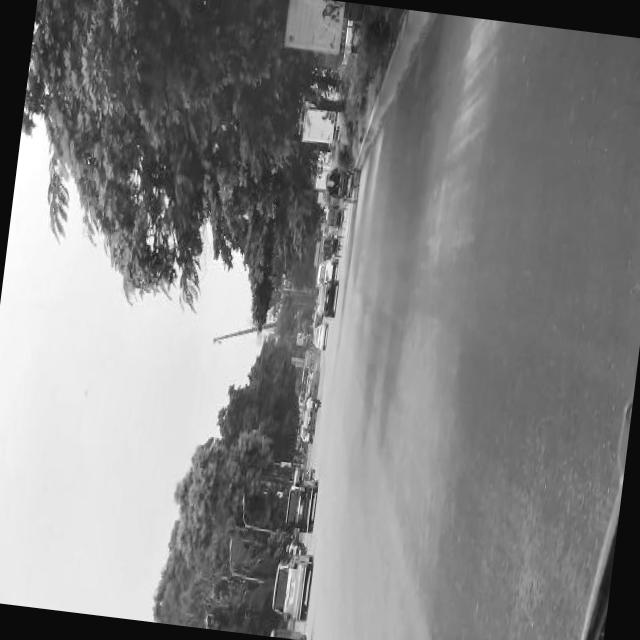car: (316, 280, 336, 318), (316, 258, 338, 286), (312, 324, 326, 351), (302, 411, 316, 432)
motorcycle: (322, 164, 360, 207), (322, 204, 348, 233), (318, 234, 342, 259), (284, 542, 306, 560), (291, 466, 314, 482), (302, 398, 320, 412)
truck: (267, 552, 311, 622), (283, 479, 316, 536)
